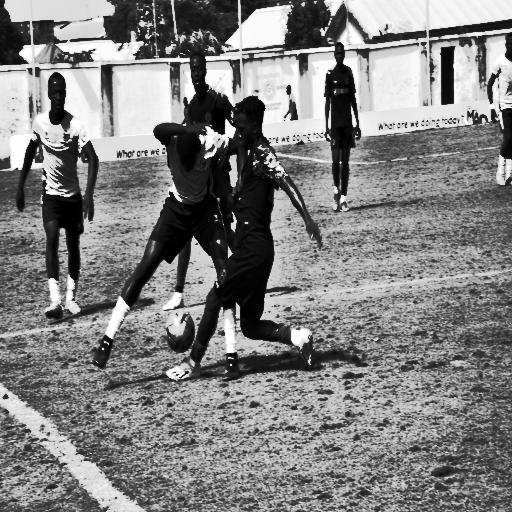ball: (158, 299, 194, 351)
team1: (96, 111, 229, 378), (20, 50, 93, 320), (486, 13, 512, 200)
team2: (194, 100, 324, 380), (320, 39, 353, 224), (188, 45, 224, 201)
